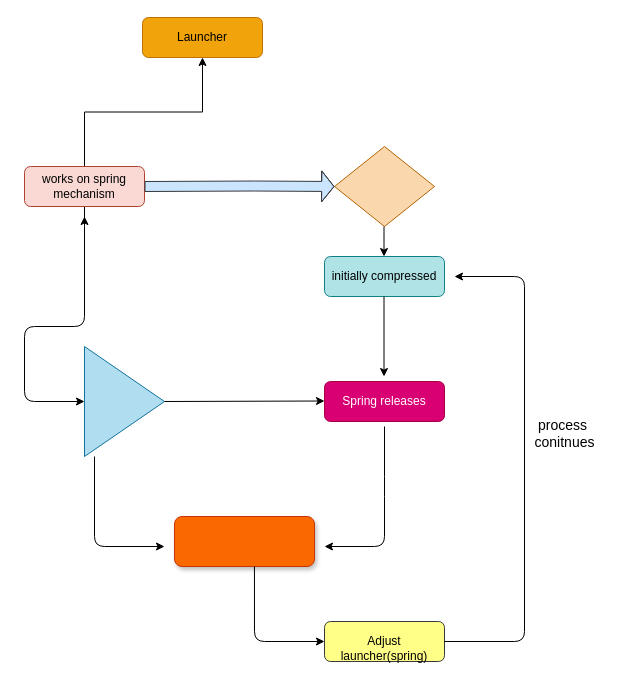
Image size: 617x680. Some labels were removed from this diagram. Here are the shapes that lost their labels. From the top down, the centre of each, then its label:
(384,186): Spring
(124,401): press button
(245,543): ball launches
